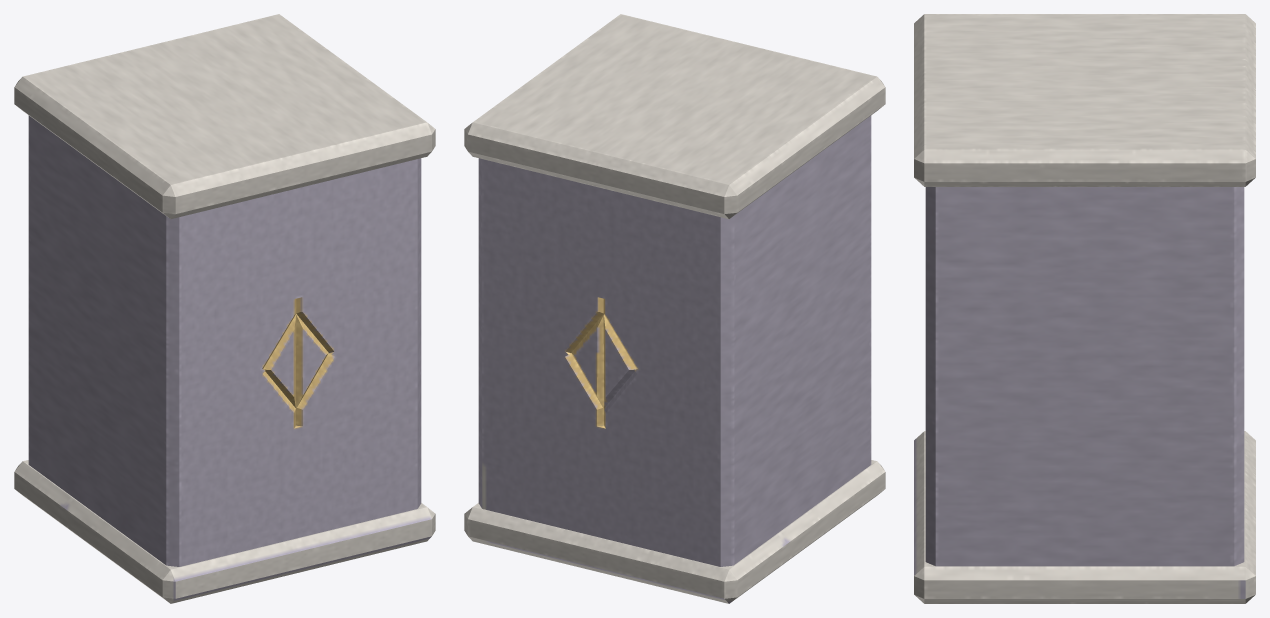
The model's file is cover_high.glb.
3 renders of one model, left to right at view 1: azimuth 30°, elevation 25°; view 2: azimuth 150°, elevation 25°; view 3: azimuth 270°, elevation 25°, orthographic. The views are drawn at different scales.
Visible parts, largest first — view 1: CarvedStone, Capstone, Footing; view 2: CarvedStone, Capstone, Footing; view 3: CarvedStone, Capstone, Footing.
Boxes of the visible parts, bbox=[...] form: CarvedStone: bbox=[28, 115, 421, 566]; Capstone: bbox=[14, 14, 435, 218]; Footing: bbox=[14, 460, 435, 603]; CarvedStone: bbox=[478, 115, 871, 566]; Capstone: bbox=[464, 14, 885, 218]; Footing: bbox=[464, 460, 885, 603]; CarvedStone: bbox=[925, 187, 1244, 566]; Capstone: bbox=[914, 14, 1255, 186]; Footing: bbox=[914, 431, 1255, 603].
Bounding box in the file's own units: 1.5 × 2.2 × 1.5.
3 materials, 3 textured.
